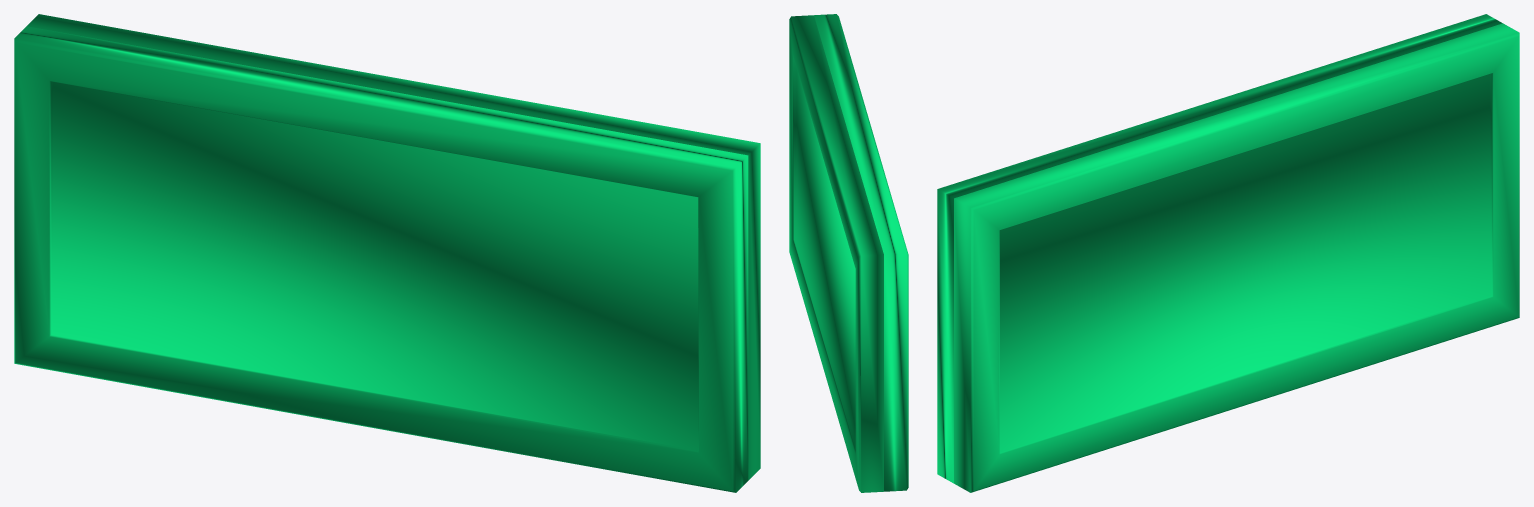
The model's file is HOTEL.fbx.
The picture shows the model from 3 angles, left to right: view 1: azimuth 30°, elevation 25°; view 2: azimuth 150°, elevation 25°; view 3: azimuth 270°, elevation 25°; orthographic projection. The views are drawn at different scales.
Visible parts, largest first — view 1: Cube.1559; view 2: Cube.1559; view 3: Cube.1559.
Boxes of the visible parts, bbox=[...] form: Cube.1559: bbox=[14, 14, 760, 492]; Cube.1559: bbox=[789, 14, 908, 492]; Cube.1559: bbox=[937, 14, 1519, 492].
Size of the model in its own units: 251 by 172 by 318.
